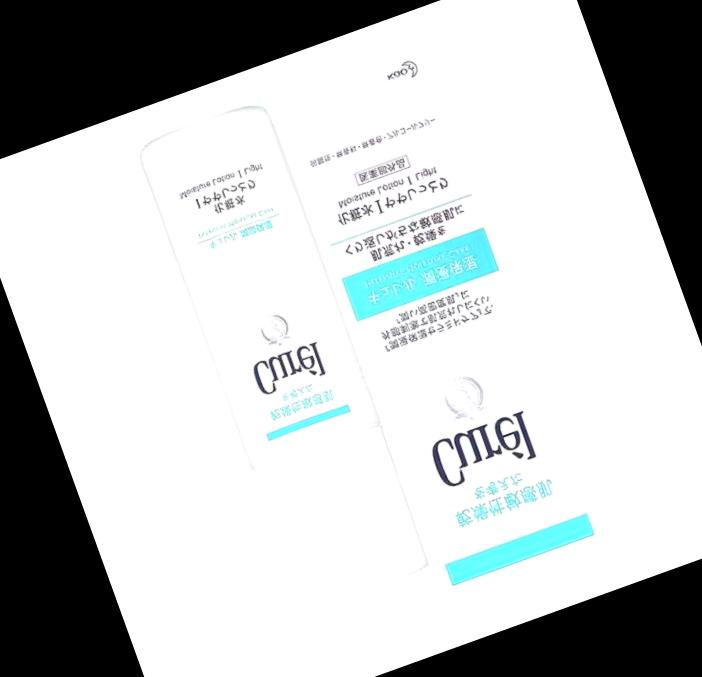cosmetic: (139, 109, 435, 612)
